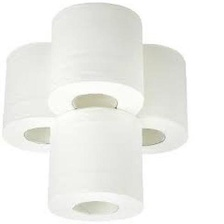tissue: (39, 0, 151, 125), (42, 102, 149, 223), (0, 36, 88, 158), (105, 38, 192, 160)
